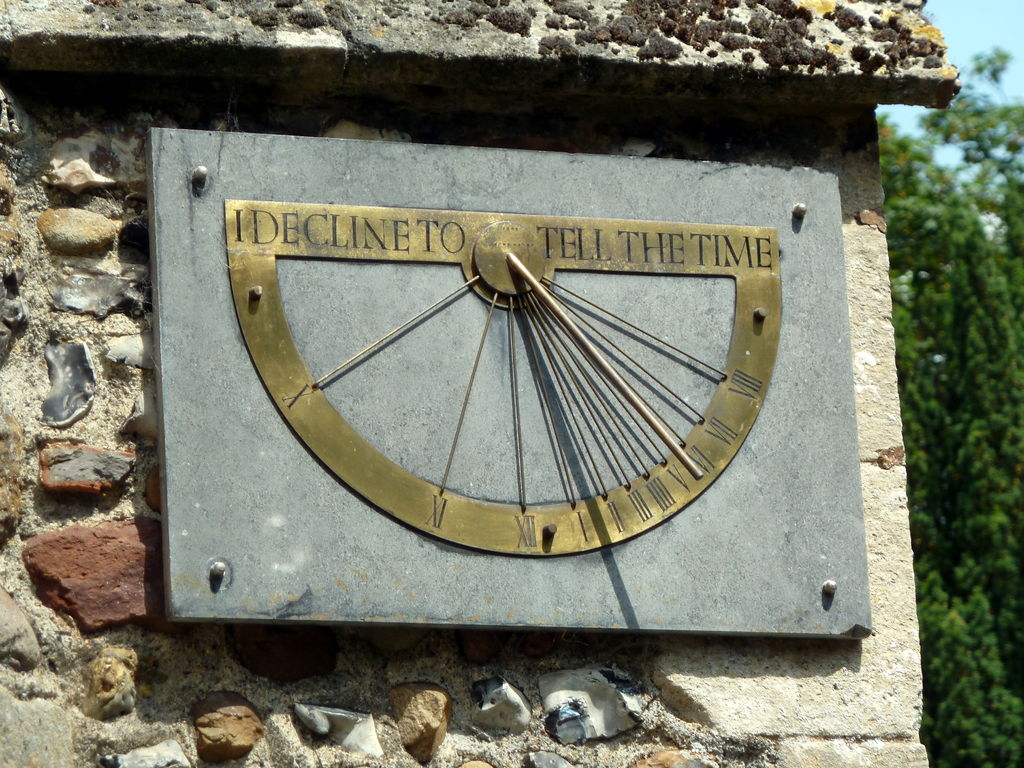Tree: (875, 0, 1024, 768)
